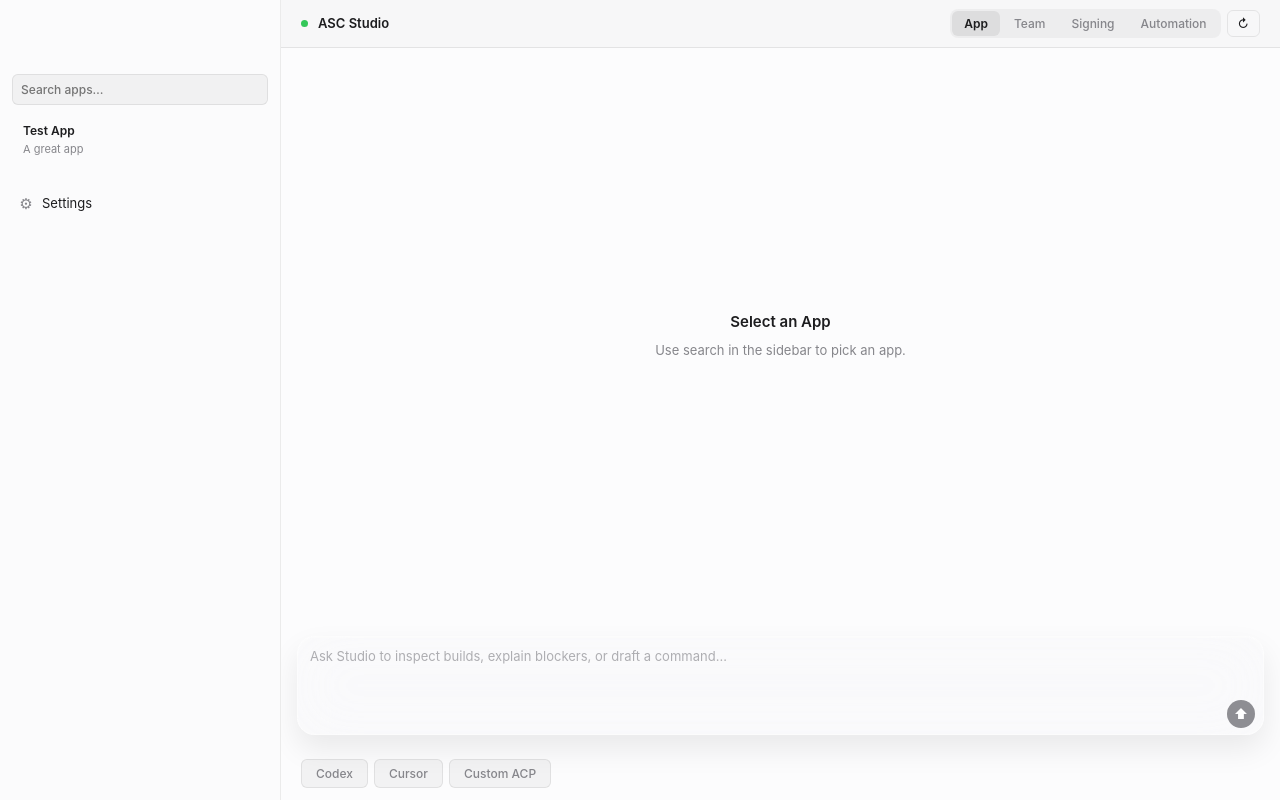
Test case: App › collapses the dock when chevron is clicked
Check: the picture named "Connected" is shown, box [301, 20, 308, 27]
Replace the text in the text box named "Chat prompt" with "test" at {"x": 780, "y": 663}, box [298, 637, 1263, 690]
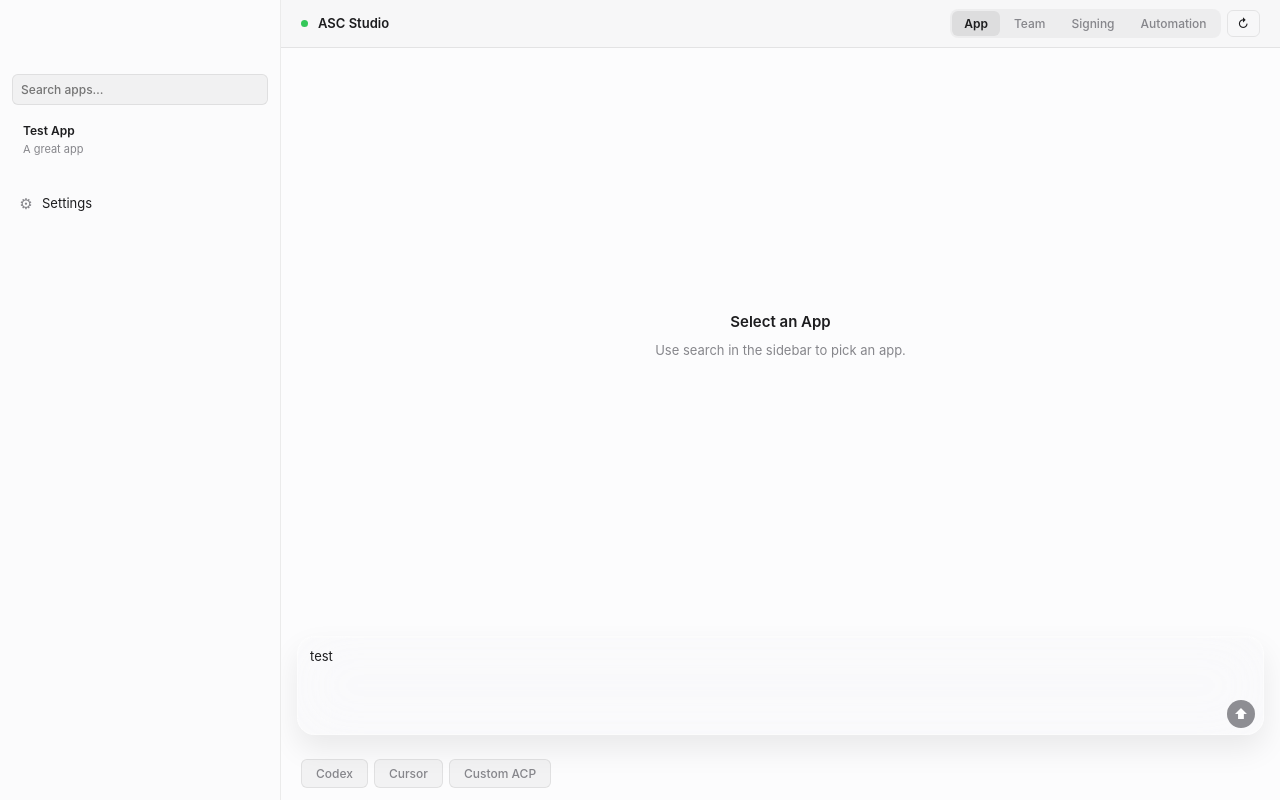
Submit the form named "Chat prompt", box [298, 637, 1263, 734]
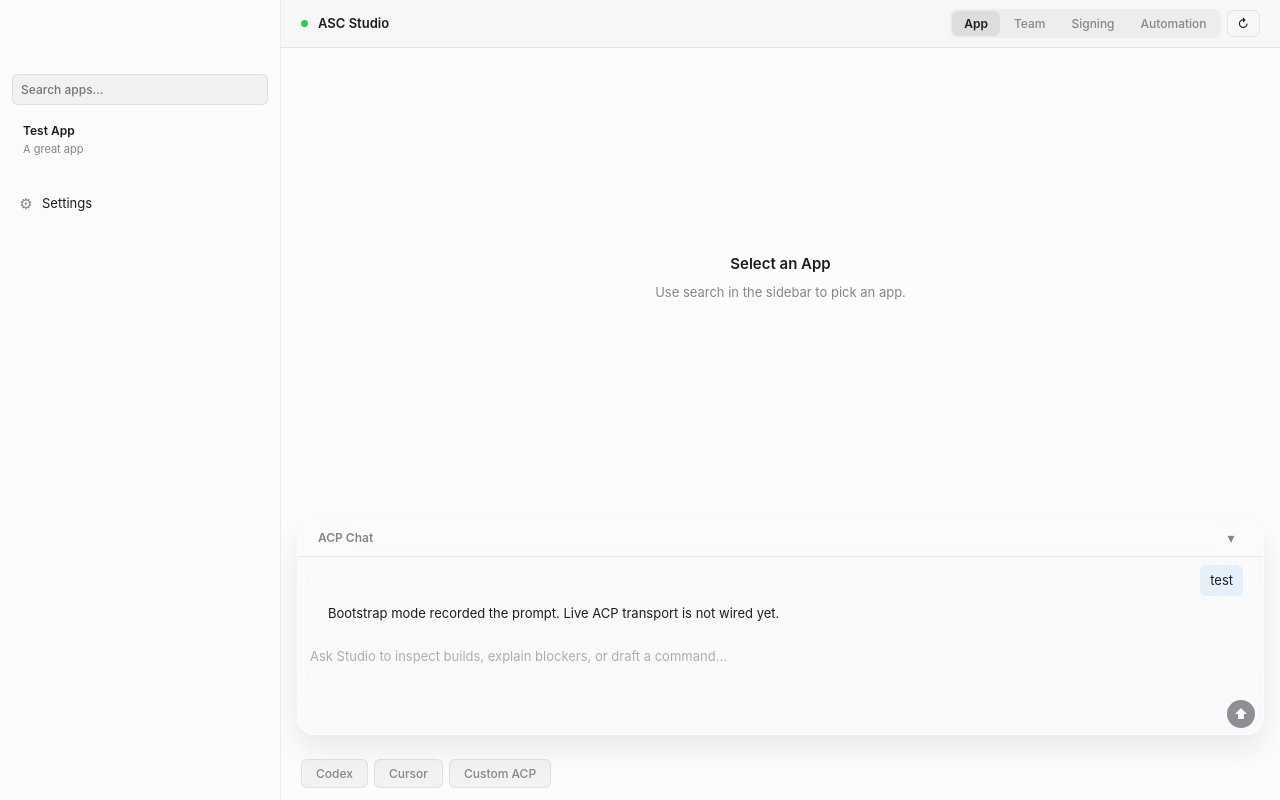
Check: the text "ACP Chat" is shown, box [318, 529, 373, 547]
Click the button named "Collapse chat".
click(1231, 538)  # box [1219, 526, 1243, 550]
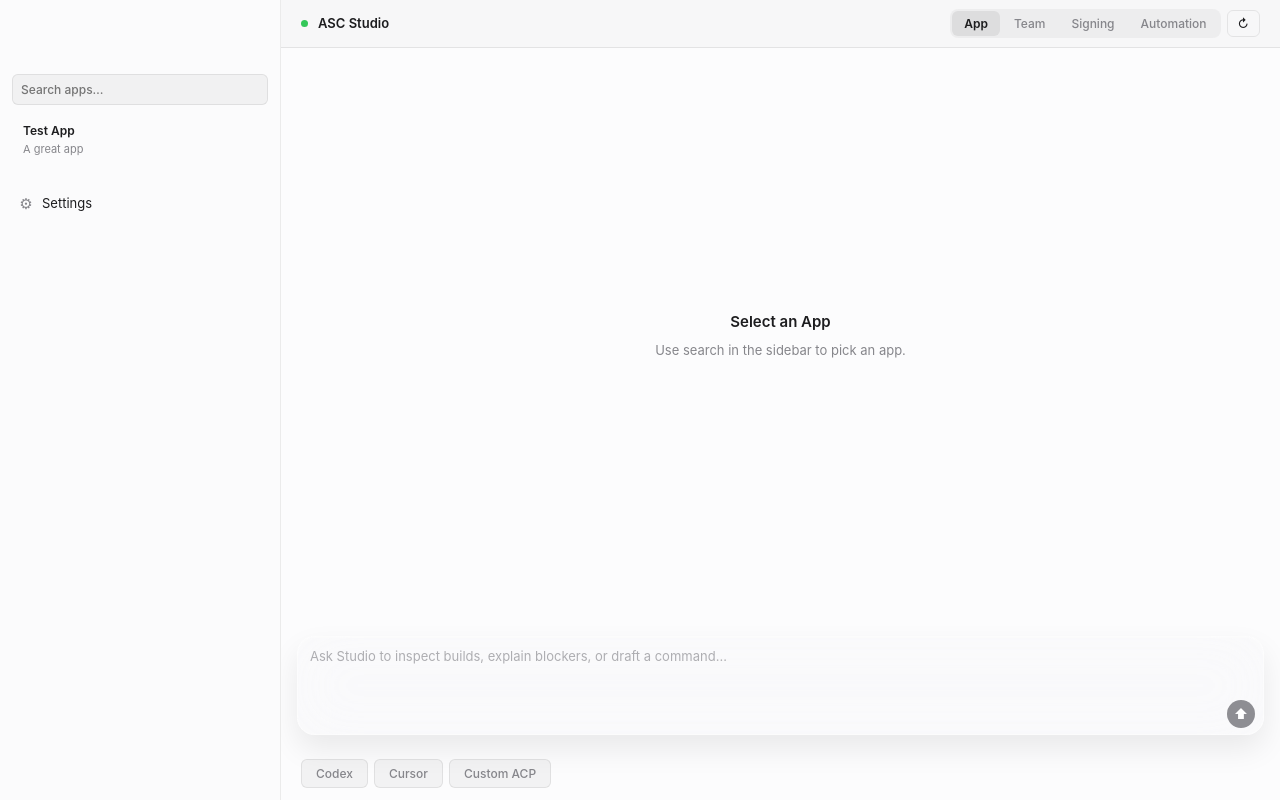
Check: the text "ACP Chat" is gone
